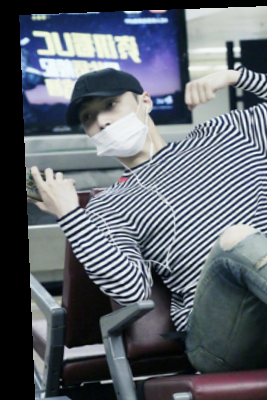mask_weared_incorrect: (63, 63, 159, 161)
